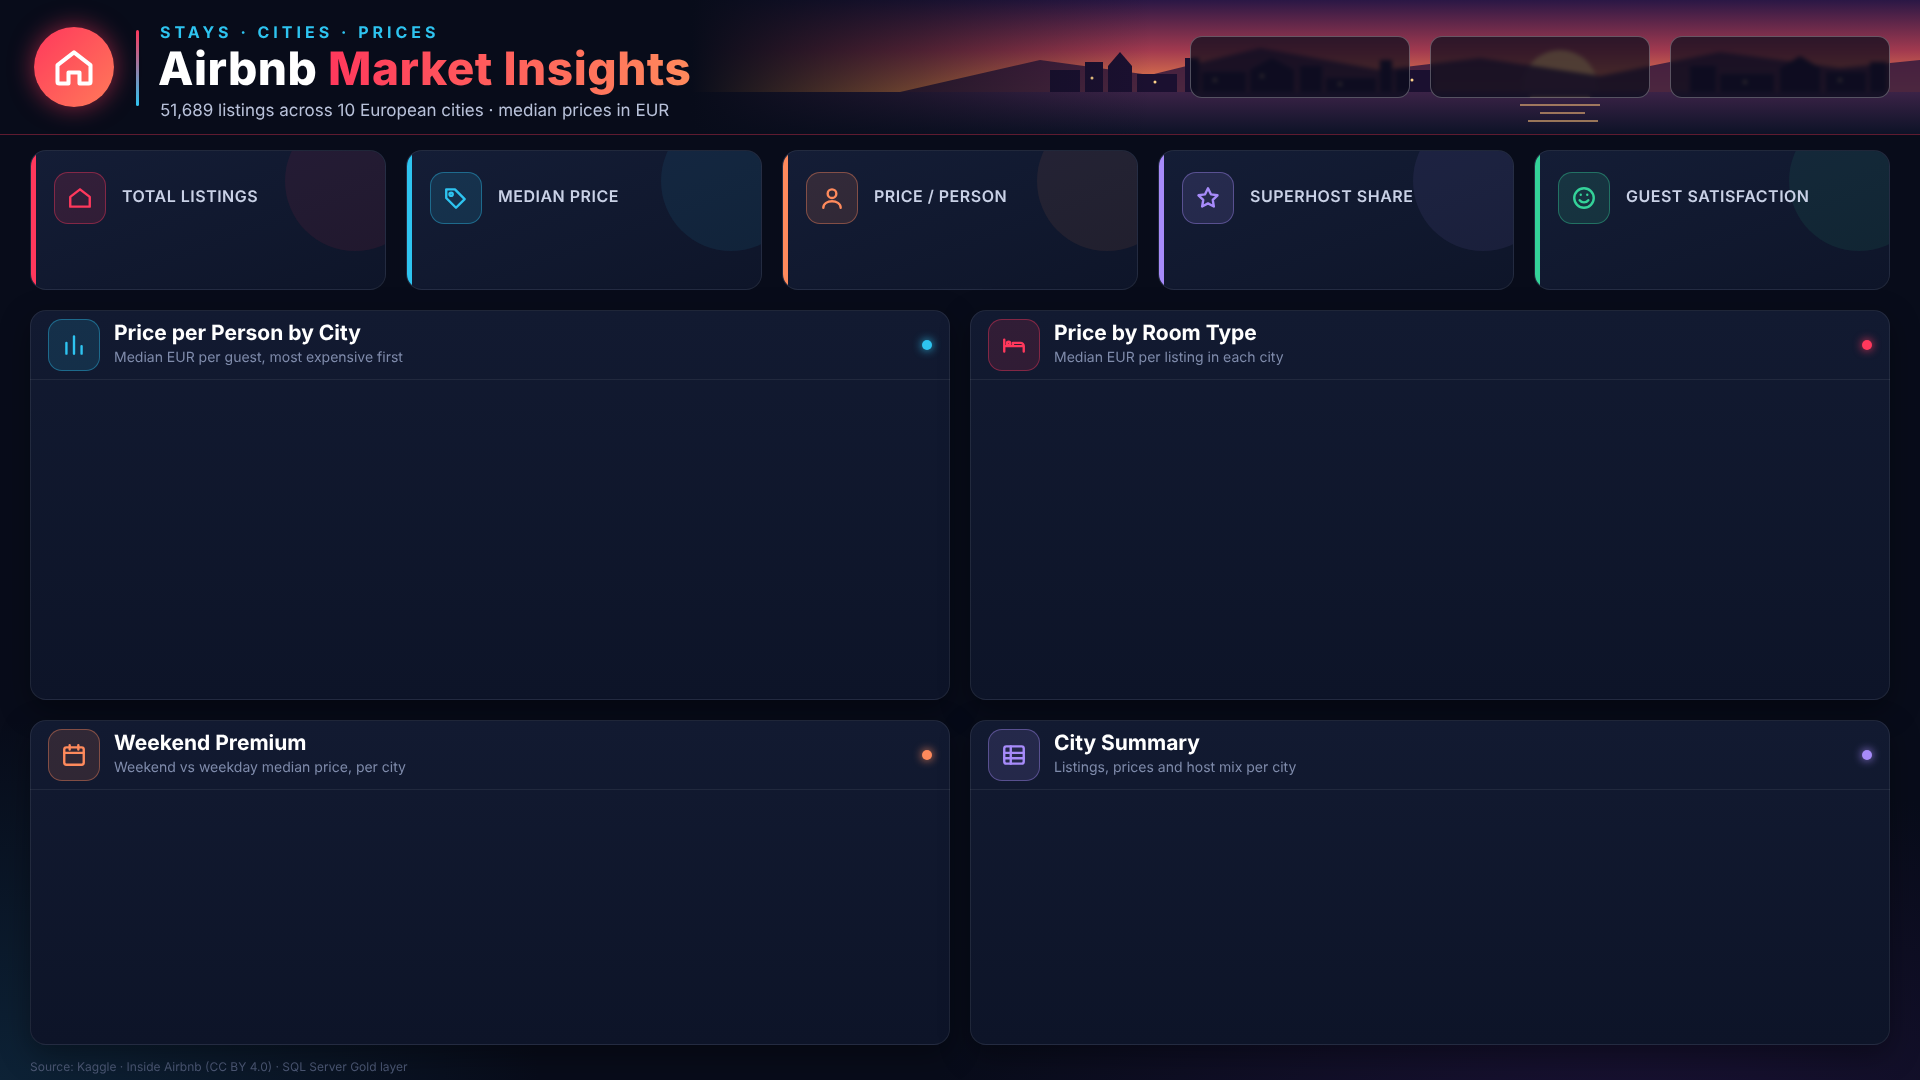

What the dashboard file says about the page in this screenshot:
{"tool":"powerbi","page":{"name":"Page 1","canvas":[1920,1080],"ordinal":0},"visuals":[{"type":"cardVisual","fields":{"Data":["Listings.Total Listings","Listings.Median Price","Listings.Median Price per Person","Listings.Superhost Share","Listings.Avg Guest Satisfaction"]},"box":[30.1,223.7,1863.5,75.1],"z":0},{"type":"clusteredBarChart","fields":{"Category":["City.city_name"],"Y":["Listings.Median Price per Person"]},"box":[40,385,600,268],"z":1000},{"type":"clusteredColumnChart","fields":{"Category":["City.city_name"],"Series":["Room Type.room_type_name"],"Y":["Listings.Median Price"]},"box":[680,385,600,268],"z":2000},{"type":"clusteredBarChart","fields":{"Category":["City.city_name"],"Y":["Listings.Weekend Premium %"]},"box":[1320,385,560,268],"z":3000},{"type":"slicer","fields":{"Values":["City.city_name"]},"box":[1190,36,220,62],"z":4000},{"type":"lineChart","fields":{"Category":["Listings.Distance Band"],"Y":["Listings.Median Price Index"]},"box":[40,755,600,280],"z":5000},{"type":"clusteredColumnChart","fields":{"Category":["Host Type.host_type_name"],"Y":["Listings.Median Price Index"]},"box":[680,755,600,280],"z":6000},{"type":"lineChart","fields":{"Category":["Listings.person_capacity"],"Y":["Listings.Median Price per Person"]},"box":[1320,755,560,280],"z":7000},{"type":"slicer","fields":{"Values":["Room Type.room_type_name"]},"box":[1430,36,220,62],"z":8000},{"type":"slicer","fields":{"Values":["Day Type.day_type_name"]},"box":[1670,36,220,62],"z":9000}]}

Visuals, with their boxes in screenshot pixels (x1, y1, x2, y2), scaled from the page's 1920x1080 canvas onto the 1920x1080 screenshot:
cardVisual - Listings.Total Listings x Listings.Median Price: {"left": 30, "top": 224, "right": 1894, "bottom": 299}
clusteredBarChart - City.city_name x Listings.Median Price per Person: {"left": 40, "top": 385, "right": 640, "bottom": 653}
clusteredColumnChart - City.city_name x Room Type.room_type_name: {"left": 680, "top": 385, "right": 1280, "bottom": 653}
clusteredBarChart - City.city_name x Listings.Weekend Premium %: {"left": 1320, "top": 385, "right": 1880, "bottom": 653}
slicer - City.city_name: {"left": 1190, "top": 36, "right": 1410, "bottom": 98}
lineChart - Listings.Distance Band x Listings.Median Price Index: {"left": 40, "top": 755, "right": 640, "bottom": 1035}
clusteredColumnChart - Host Type.host_type_name x Listings.Median Price Index: {"left": 680, "top": 755, "right": 1280, "bottom": 1035}
lineChart - Listings.person_capacity x Listings.Median Price per Person: {"left": 1320, "top": 755, "right": 1880, "bottom": 1035}
slicer - Room Type.room_type_name: {"left": 1430, "top": 36, "right": 1650, "bottom": 98}
slicer - Day Type.day_type_name: {"left": 1670, "top": 36, "right": 1890, "bottom": 98}
